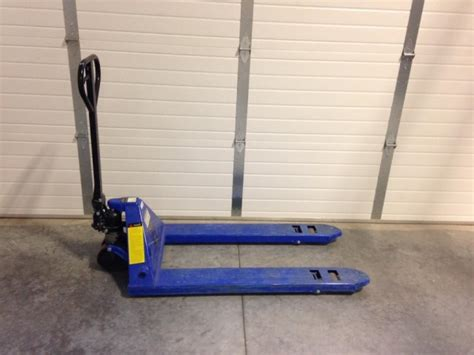Pallet Jack: (77, 54, 372, 296)
